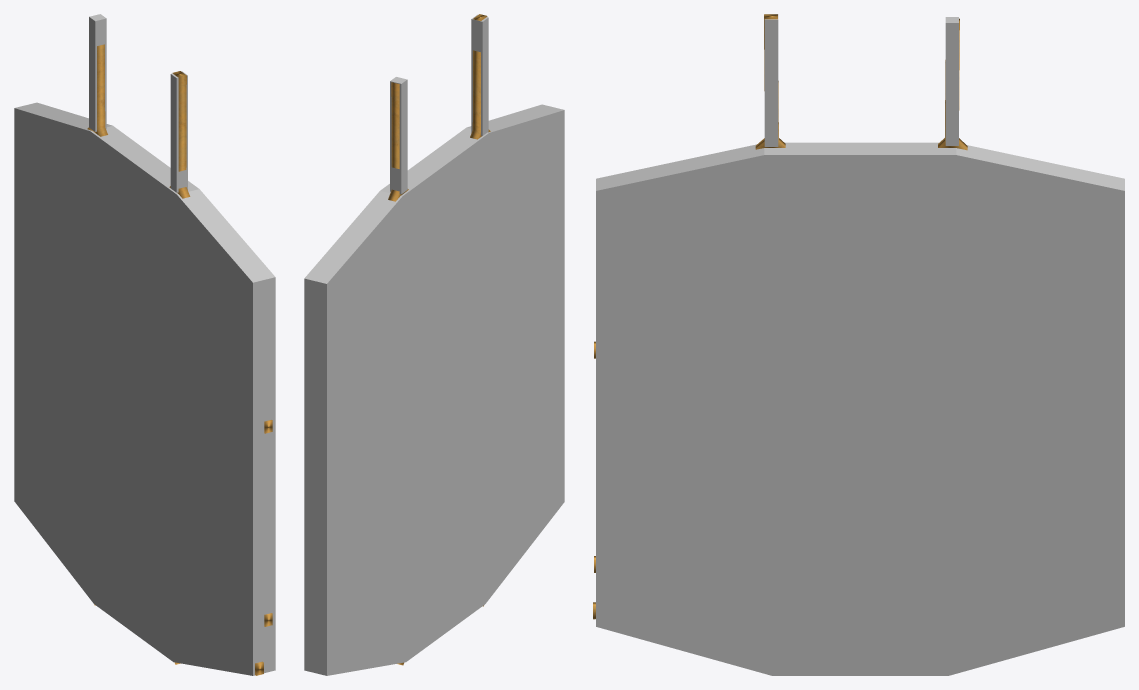
The model's file is SM_EntranceOrnamentation.fbx.
The picture shows the model from 3 angles, left to right: view 1: azimuth 30°, elevation 25°; view 2: azimuth 150°, elevation 25°; view 3: azimuth 270°, elevation 25°; orthographic projection. The views are drawn at different scales.
Parts seen in each view (by area): view 1: SM_EntranceOrnamentation_ConvexHulls, SM_EntranceOrnamentation; view 2: SM_EntranceOrnamentation_ConvexHulls, SM_EntranceOrnamentation; view 3: SM_EntranceOrnamentation_ConvexHulls, SM_EntranceOrnamentation.
Boxes of the visible parts, x1,y1,x2,y2 form: SM_EntranceOrnamentation_ConvexHulls: [14, 14, 275, 675]; SM_EntranceOrnamentation: [87, 44, 272, 675]; SM_EntranceOrnamentation_ConvexHulls: [304, 14, 564, 675]; SM_EntranceOrnamentation: [388, 14, 490, 665]; SM_EntranceOrnamentation_ConvexHulls: [596, 14, 1124, 675]; SM_EntranceOrnamentation: [593, 14, 967, 619].
Size of the model in its own units: 14.61 by 268 by 363.
Materials: 2 (1 with a texture image).
